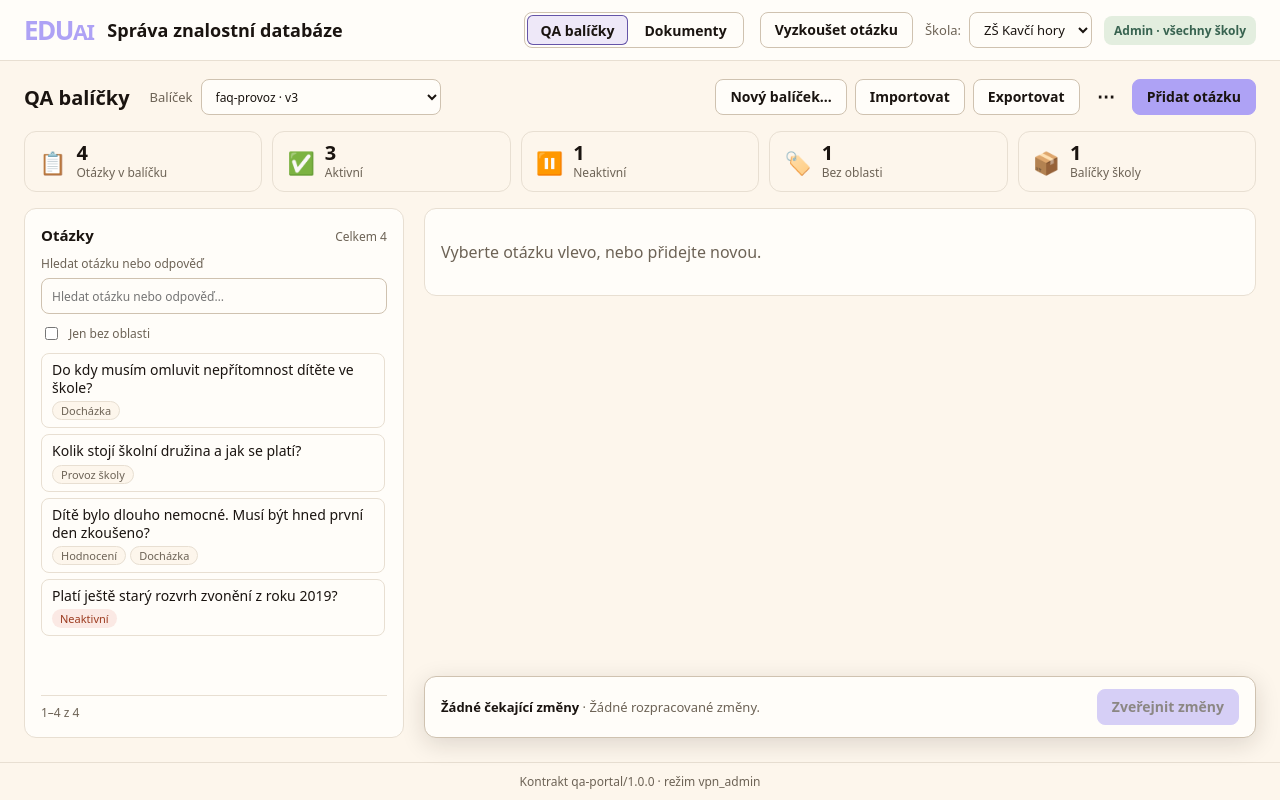
it: pack bar › shows the pending-change count next to the sticky publish button
Expected: the text "Žádné čekající změny" is shown, [441, 698, 579, 716]
Click the text "Do kdy musím omluvit nepřítomnost dítěte ve škole?" at point(213, 379), box [52, 361, 374, 397]
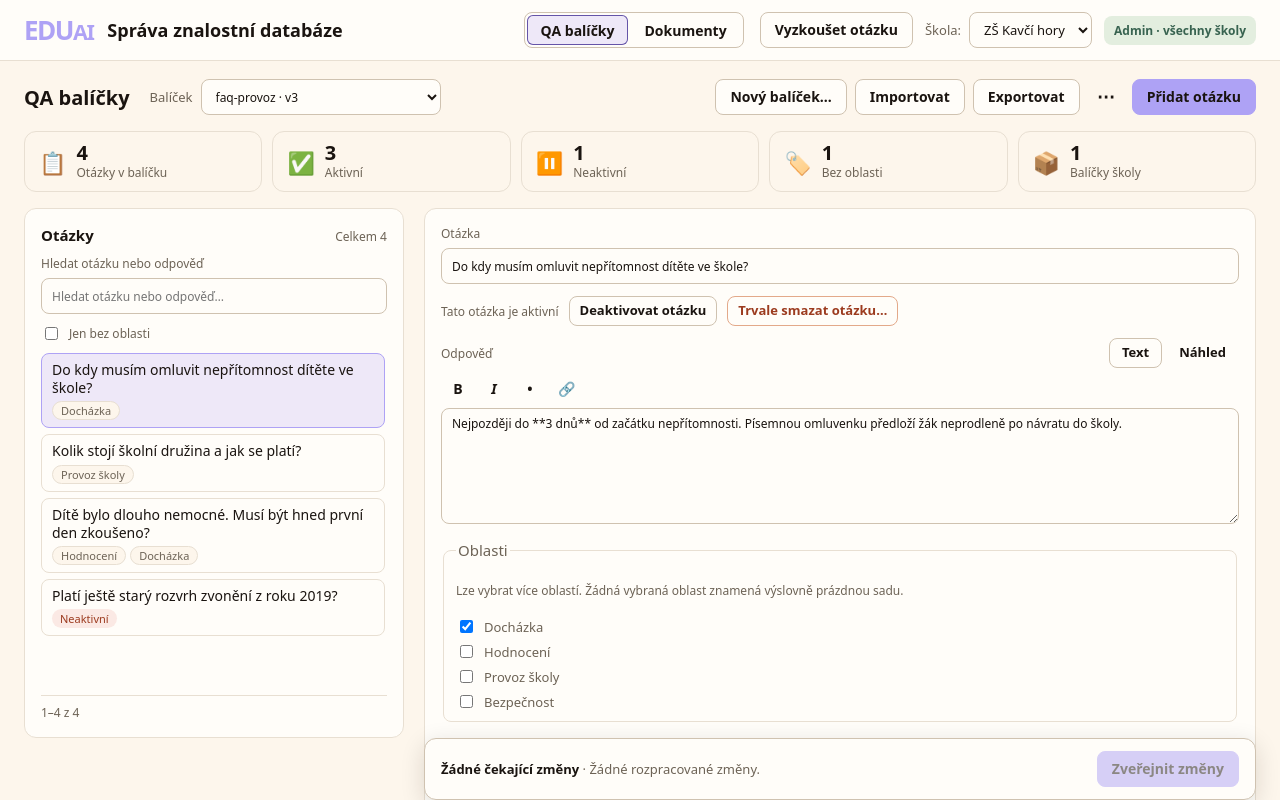
Replace the text in the text box labelled "Odpověď" with "Změněná odpověď." at point(840, 466), box [441, 408, 1239, 524]
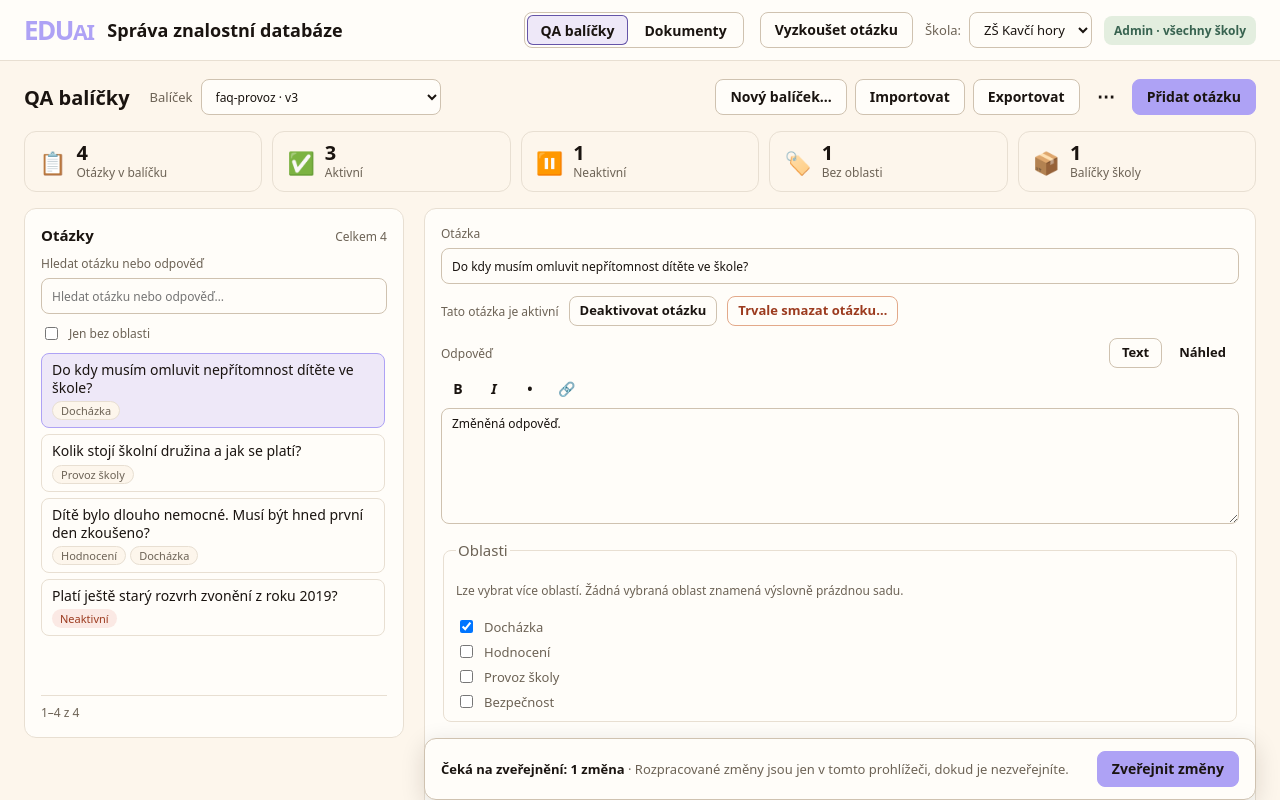
Now the button "Zveřejnit změny" is enabled, box [1097, 751, 1239, 787]
